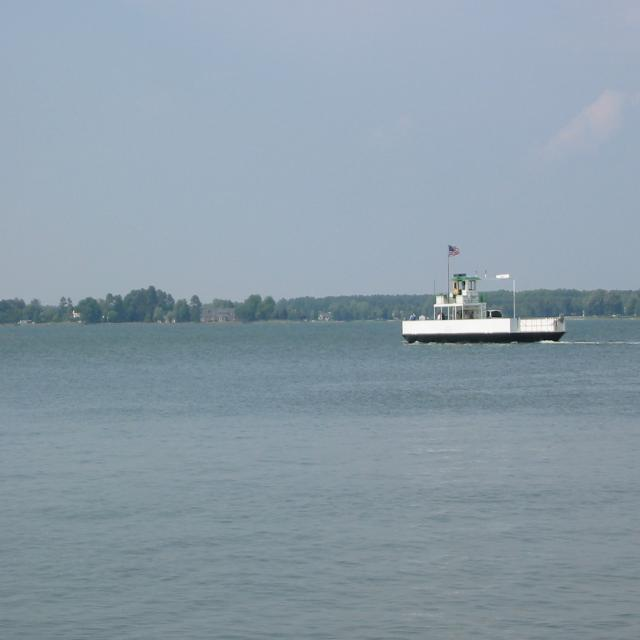passenger ship: (399, 270, 564, 344)
